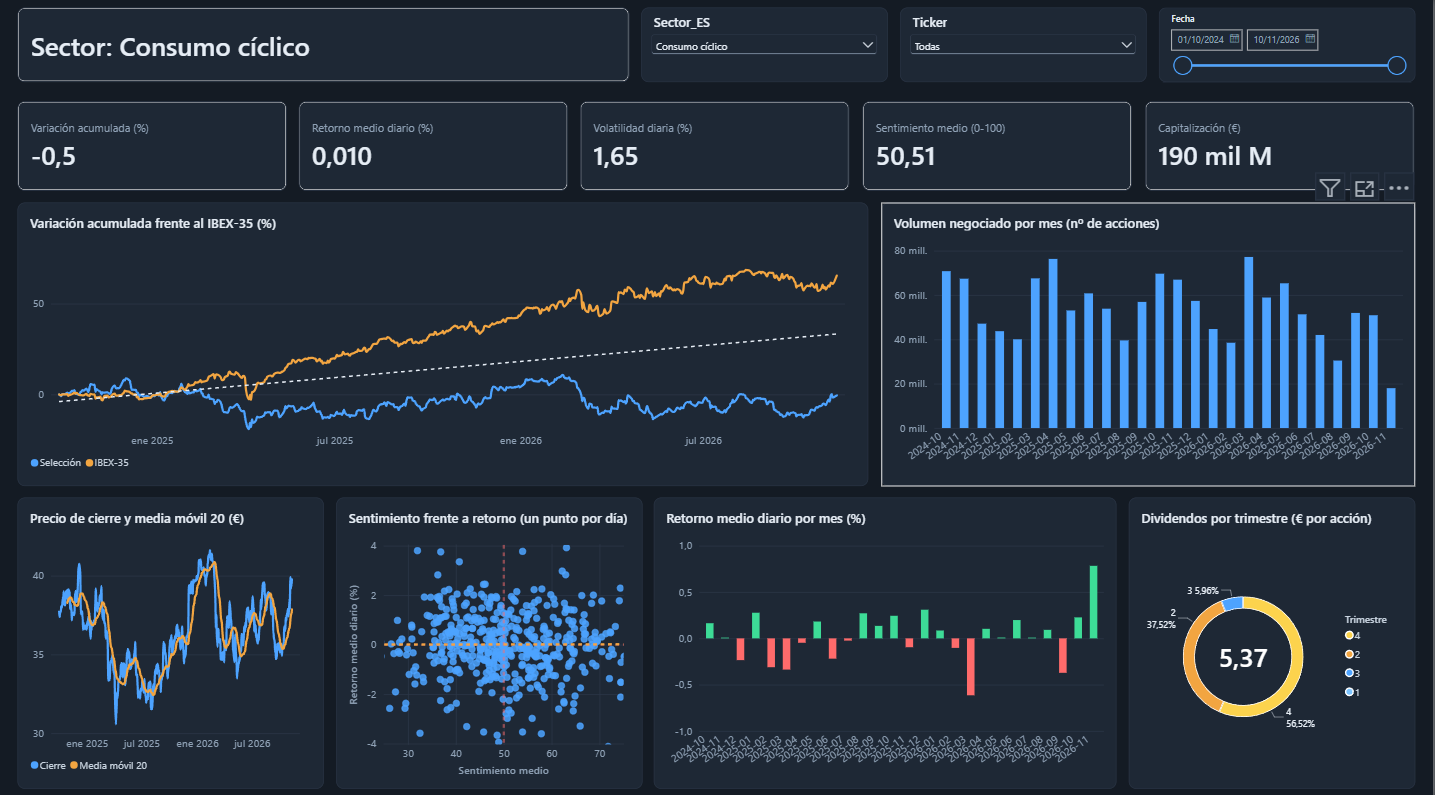

What the dashboard file says about the page in this screenshot:
{"tool":"powerbi","page":{"name":"Dashboard","canvas":[1920,1080],"ordinal":3},"visuals":[{"type":"slicer","fields":{"Values":["Empresa.Sector_ES"]},"box":[753.5,31.4,280.8,68],"z":0},{"type":"slicer","fields":{"Values":["Empresa.Ticker"]},"box":[1055.2,26.2,280.8,80.2],"z":1000},{"type":"slicer","fields":{"Values":["Fecha.Fecha"]},"box":[1360.5,19.2,280.8,95.9],"z":2000},{"type":"cardVisual","fields":{"Data":["Hechos.Variacion Acumulada"]},"box":[36.6,115.1,218,174.4],"z":3000},{"type":"cardVisual","fields":{"Data":["Hechos.Retorno Medio Diario"]},"box":[375,115.1,218,174.4],"z":4000},{"type":"cardVisual","fields":{"Data":["Hechos.Volatilidad Diaria"]},"box":[741.3,115.1,218,174.4],"z":5000},{"type":"cardVisual","fields":{"Data":["Hechos.Sentimiento Medio"]},"box":[1088.4,115.1,218,174.4],"z":6000},{"type":"cardVisual","fields":{"Data":["Hechos.Capitalizacion Total"]},"box":[1447.7,115.1,218,174.4],"z":7000},{"type":"lineChart","fields":{"Category":["Fecha.Fecha"],"Y":["Hechos.Var Acum Seleccion","Hechos.Var Acum IBEX"]},"box":[43.6,314,1058.7,376.7],"z":8000},{"type":"clusteredColumnChart","fields":{"Category":["Fecha.AnioMes"],"Y":["Sum(Hechos.Volume)"]},"box":[1133.7,314,736,376.7],"z":9000},{"type":"lineChart","fields":{"Category":["Fecha.Fecha"],"Y":["Avg(Hechos.Close)","Avg(Hechos.Media_Movil_20)"]},"box":[66.3,711.6,395.9,322.7],"z":10000},{"type":"scatterChart","fields":{"Category":["Fecha.Fecha"],"X":["Hechos.Sentimiento Medio"],"Y":["Hechos.Retorno Medio Diario"]},"box":[462.2,711.6,444.8,322.7],"z":11000},{"type":"clusteredColumnChart","fields":{"Category":["Fecha.AnioMes"],"Y":["Hechos.Retorno Medio Diario"]},"box":[907,711.6,610.5,322.7],"z":12000},{"type":"donutChart","fields":{"Category":["Fecha.Trimestre"],"Y":["Sum(Hechos.Dividends)"]},"box":[1517.4,711.6,385.5,322.7],"z":13000},{"type":"cardVisual","fields":{"Data":["Hechos.Titulo Dashboard"]},"box":[66.3,19.2,556.4,75],"z":13001}]}

Visuals, with their boxes in screenshot pixels (x1, y1, x2, y2), scaled from the page's 1920x1080 canvas onto the 1435x795 screenshot:
slicer - Empresa.Sector_ES: BBox(563, 23, 773, 73)
slicer - Empresa.Ticker: BBox(789, 19, 999, 78)
slicer - Fecha.Fecha: BBox(1017, 14, 1227, 85)
cardVisual - Hechos.Variacion Acumulada: BBox(27, 85, 190, 213)
cardVisual - Hechos.Retorno Medio Diario: BBox(280, 85, 443, 213)
cardVisual - Hechos.Volatilidad Diaria: BBox(554, 85, 717, 213)
cardVisual - Hechos.Sentimiento Medio: BBox(813, 85, 976, 213)
cardVisual - Hechos.Capitalizacion Total: BBox(1082, 85, 1245, 213)
lineChart - Fecha.Fecha x Hechos.Var Acum Seleccion: BBox(33, 231, 824, 508)
clusteredColumnChart - Fecha.AnioMes x Sum(Hechos.Volume): BBox(847, 231, 1397, 508)
lineChart - Fecha.Fecha x Avg(Hechos.Close): BBox(50, 524, 345, 761)
scatterChart - Fecha.Fecha x Hechos.Sentimiento Medio: BBox(345, 524, 678, 761)
clusteredColumnChart - Fecha.AnioMes x Hechos.Retorno Medio Diario: BBox(678, 524, 1134, 761)
donutChart - Fecha.Trimestre x Sum(Hechos.Dividends): BBox(1134, 524, 1422, 761)
cardVisual - Hechos.Titulo Dashboard: BBox(50, 14, 465, 69)
